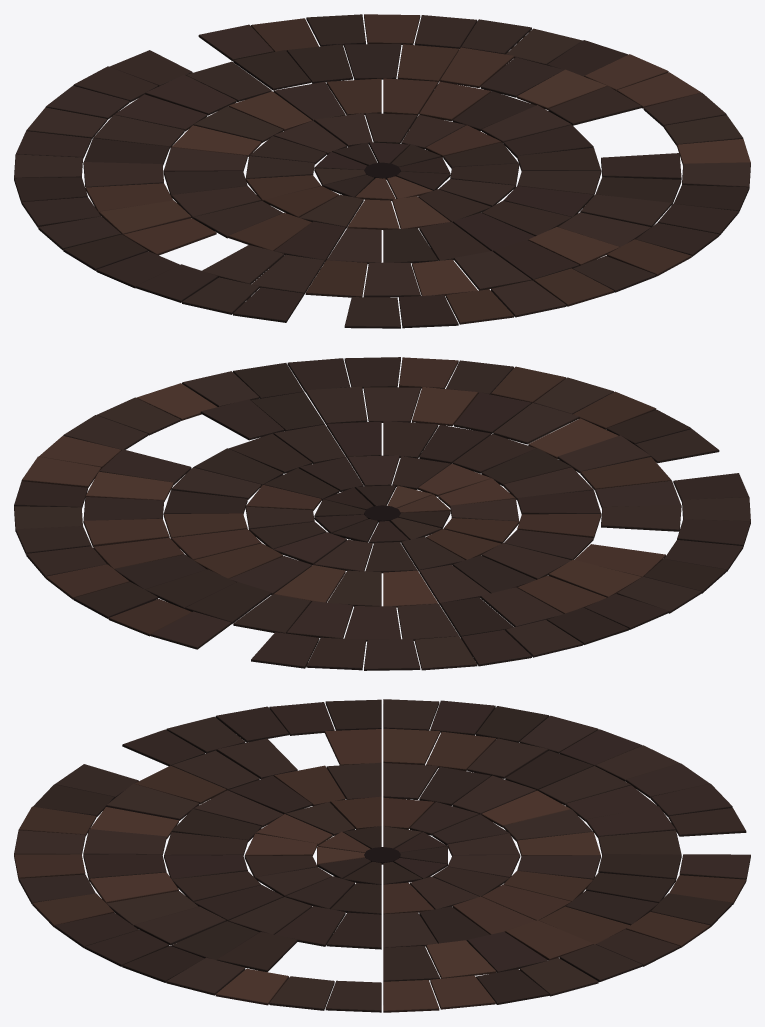
File: inc_cinzas_piso.fbx
3 views of the same model, one above another, from view 1: azimuth 30°, elevation 25°; view 2: azimuth 150°, elevation 25°; view 3: azimuth 270°, elevation 25° (orthographic).
Parts seen in each view (by area): view 1: inc_cinzas_piso; view 2: inc_cinzas_piso; view 3: inc_cinzas_piso.
Boxes of the visible parts, <box> form: inc_cinzas_piso: <box>14,14,750,328</box>; inc_cinzas_piso: <box>14,357,750,670</box>; inc_cinzas_piso: <box>14,699,750,1012</box>.
Bounding box in the file's own units: 128 × 0.9542 × 128.
